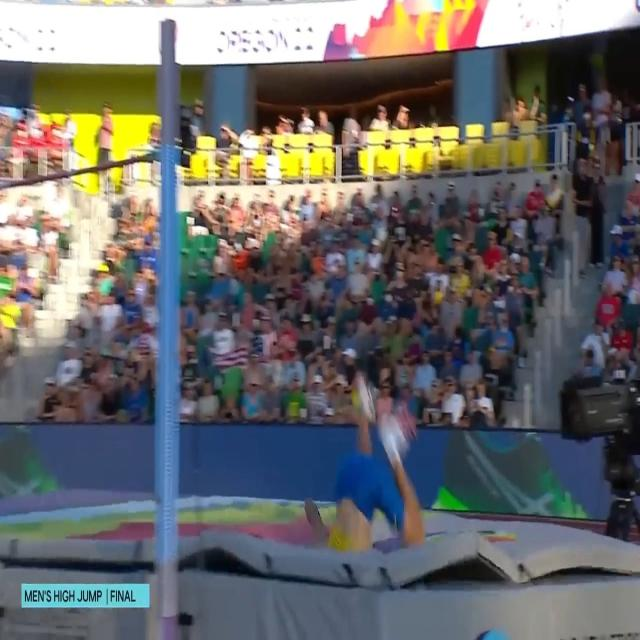land: (325, 374, 424, 548)
